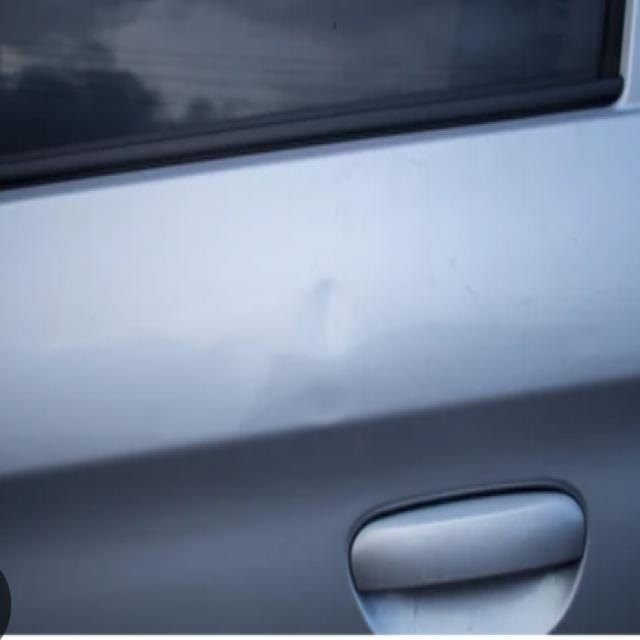dents: (297, 260, 365, 374)
